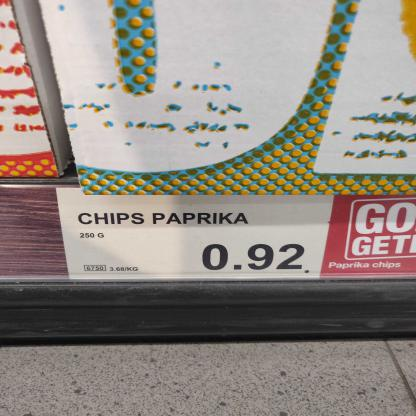prtg: (57, 188, 334, 281)
